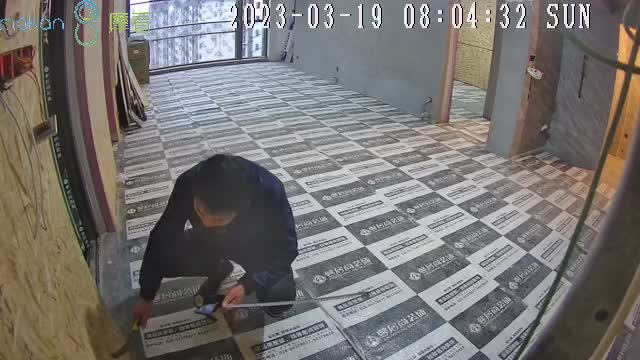people: (134, 154, 298, 326)
window: (128, 1, 265, 67)
